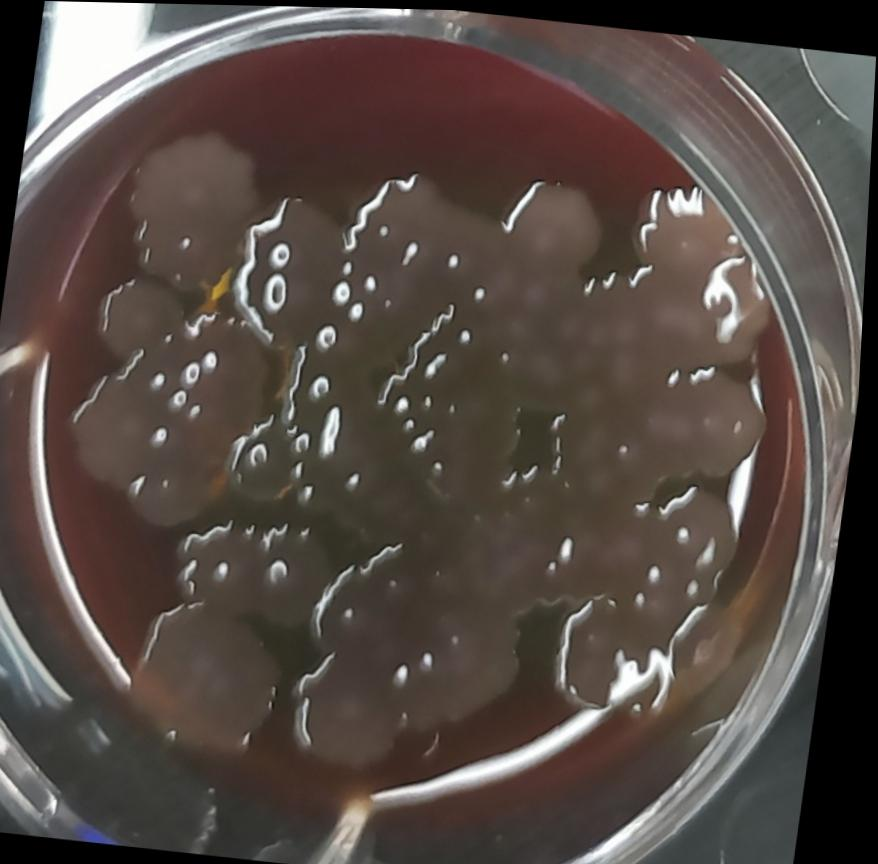vproteolyticus: (284, 527, 558, 795), (55, 292, 281, 554), (547, 342, 782, 500), (117, 595, 298, 769), (103, 112, 273, 292), (224, 184, 360, 359), (340, 161, 506, 293), (547, 586, 681, 724), (619, 166, 753, 286), (495, 163, 619, 283), (254, 516, 346, 642), (213, 408, 317, 513), (86, 267, 192, 368), (278, 344, 377, 444), (175, 515, 273, 615)
